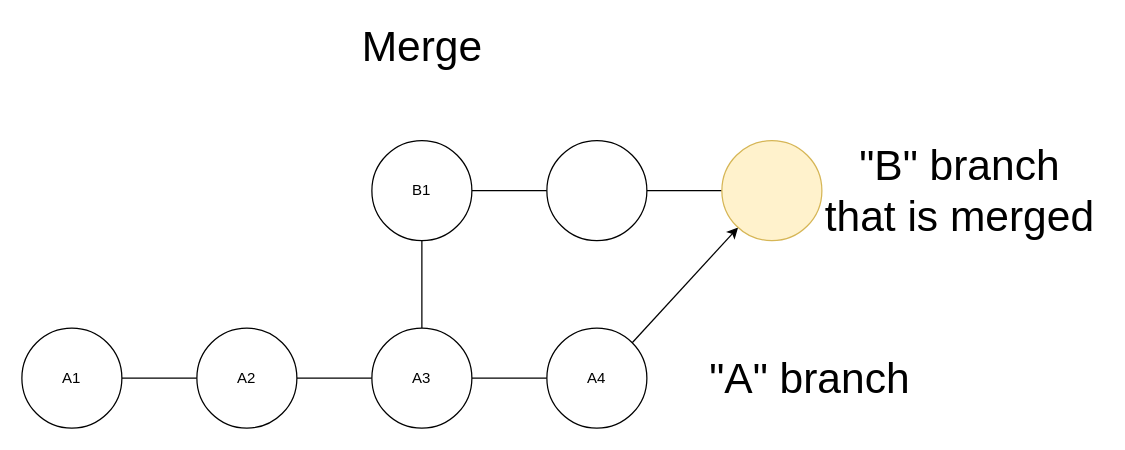
Some shapes in this 1125 by 450 pixel diagram are drawn without their labels. The shapes that lost their labels are listed below. From the top down, each one's centre as x and y in pixels, then its label:
At [596,190]: "B2".
At [771,190]: "B3".
